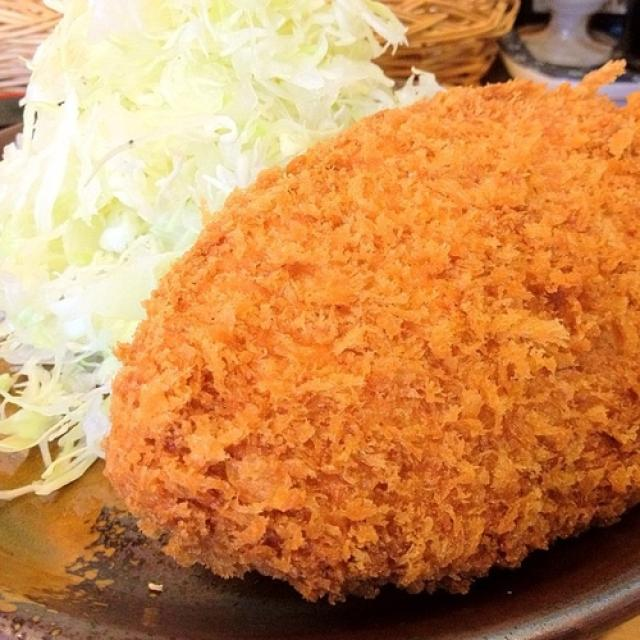炸货点心: (51, 26, 634, 592)
